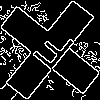F: (25, 25, 78, 80)
